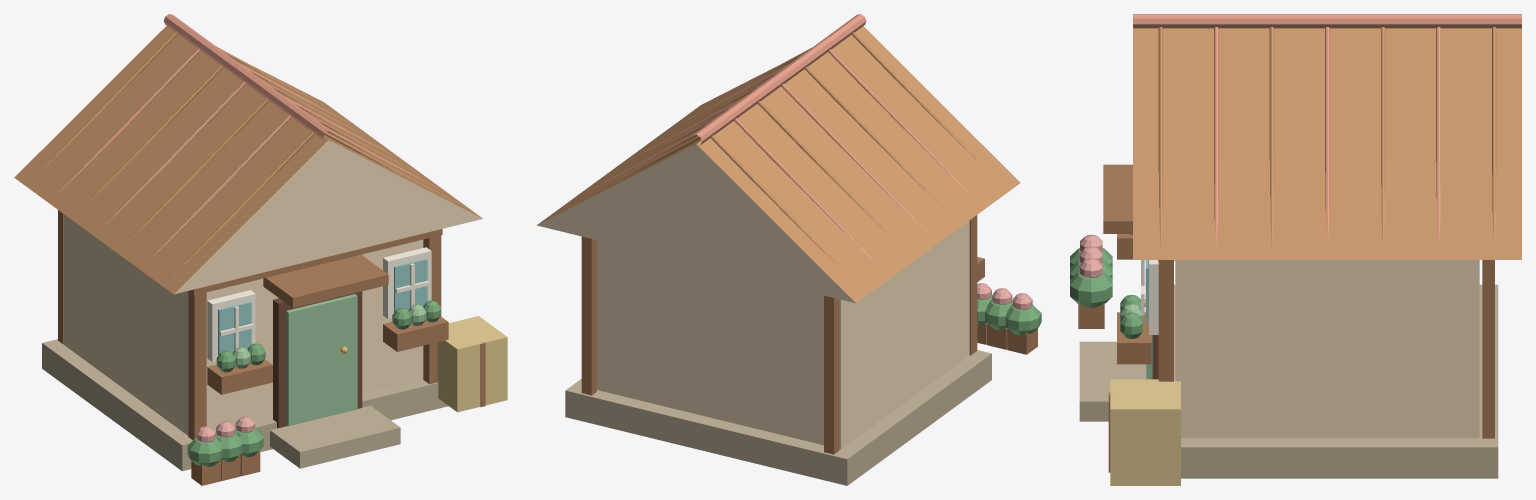
The model's file is sheep-barn.gltf.
The picture shows the model from 3 angles, left to right: view 1: azimuth 30°, elevation 25°; view 2: azimuth 150°, elevation 25°; view 3: azimuth 270°, elevation 25°; orthographic projection. The views are drawn at different scales.
Parts seen in each view (by area): view 1: connected-layered-roof-left, solid-cream-walls, connected-layered-roof-front-gable, stone-foundation, painted-door, straw-bale-stack, porch-step, timber-awning, connected-layered-roof-right, front-timber-post--1.19, connected-layered-roof-ridge, central-door-frame (+20 smaller); view 2: solid-cream-walls, connected-layered-roof-left, connected-layered-roof-back-gable, stone-foundation, connected-layered-roof-right, connected-layered-roof-ridge, back-timber-post-1.19, back-timber-post--1.19, front-timber-post--1.19, potted-flowers-0-leaf, connected-layered-roof-tile--1-5, connected-layered-roof-tile--1-1 (+7 smaller); view 3: connected-layered-roof-right, solid-cream-walls, stone-foundation, straw-bale-stack, connected-layered-roof-ridge, porch-step, back-timber-post-1.19, timber-awning, front-timber-post-1.19, potted-flowers-2-leaf, planter-0.8908000000000001, connected-layered-roof-tile-1-4 (+9 smaller).
Part boxes in pixels (left/top/right/bottom): connected-layered-roof-left: left=14, top=26, right=327, bottom=294; solid-cream-walls: left=63, top=214, right=423, bottom=435; connected-layered-roof-front-gable: left=174, top=140, right=482, bottom=294; stone-foundation: left=42, top=339, right=448, bottom=471; painted-door: left=286, top=294, right=357, bottom=426; straw-bale-stack: left=437, top=316, right=507, bottom=412; porch-step: left=270, top=405, right=400, bottom=468; timber-awning: left=263, top=254, right=388, bottom=307; connected-layered-roof-right: left=233, top=58, right=482, bottom=218; front-timber-post--1.19: left=188, top=291, right=206, bottom=439; connected-layered-roof-ridge: left=163, top=14, right=331, bottom=140; central-door-frame: left=273, top=291, right=362, bottom=428; solid-cream-walls: left=597, top=220, right=969, bottom=449; connected-layered-roof-left: left=696, top=26, right=1020, bottom=303; connected-layered-roof-back-gable: left=537, top=144, right=855, bottom=303; stone-foundation: left=565, top=350, right=991, bottom=485; connected-layered-roof-right: left=537, top=60, right=794, bottom=224; connected-layered-roof-ridge: left=693, top=14, right=866, bottom=144; back-timber-post-1.19: left=581, top=236, right=596, bottom=395; back-timber-post--1.19: left=824, top=295, right=839, bottom=454; front-timber-post--1.19: left=969, top=215, right=977, bottom=355; potted-flowers-0-leaf: left=1005, top=304, right=1041, bottom=335; connected-layered-roof-tile--1-5: left=828, top=49, right=977, bottom=200; connected-layered-roof-tile--1-1: left=734, top=118, right=881, bottom=267; connected-layered-roof-right: left=1133, top=28, right=1521, bottom=259; solid-cream-walls: left=1175, top=260, right=1479, bottom=438; stone-foundation: left=1174, top=284, right=1498, bottom=478; straw-bale-stack: left=1110, top=379, right=1180, bottom=485; connected-layered-roof-ridge: left=1133, top=14, right=1521, bottom=28; porch-step: left=1079, top=341, right=1146, bottom=421; back-timber-post-1.19: left=1482, top=260, right=1494, bottom=438; timber-awning: left=1103, top=164, right=1132, bottom=233; front-timber-post-1.19: left=1158, top=261, right=1173, bottom=381; potted-flowers-2-leaf: left=1070, top=271, right=1112, bottom=308; planter-0.8908000000000001: left=1117, top=312, right=1151, bottom=364; connected-layered-roof-tile-1-4: left=1269, top=27, right=1274, bottom=246.
Size of the model in its own units: 3.3 by 3.04 by 3.25.
